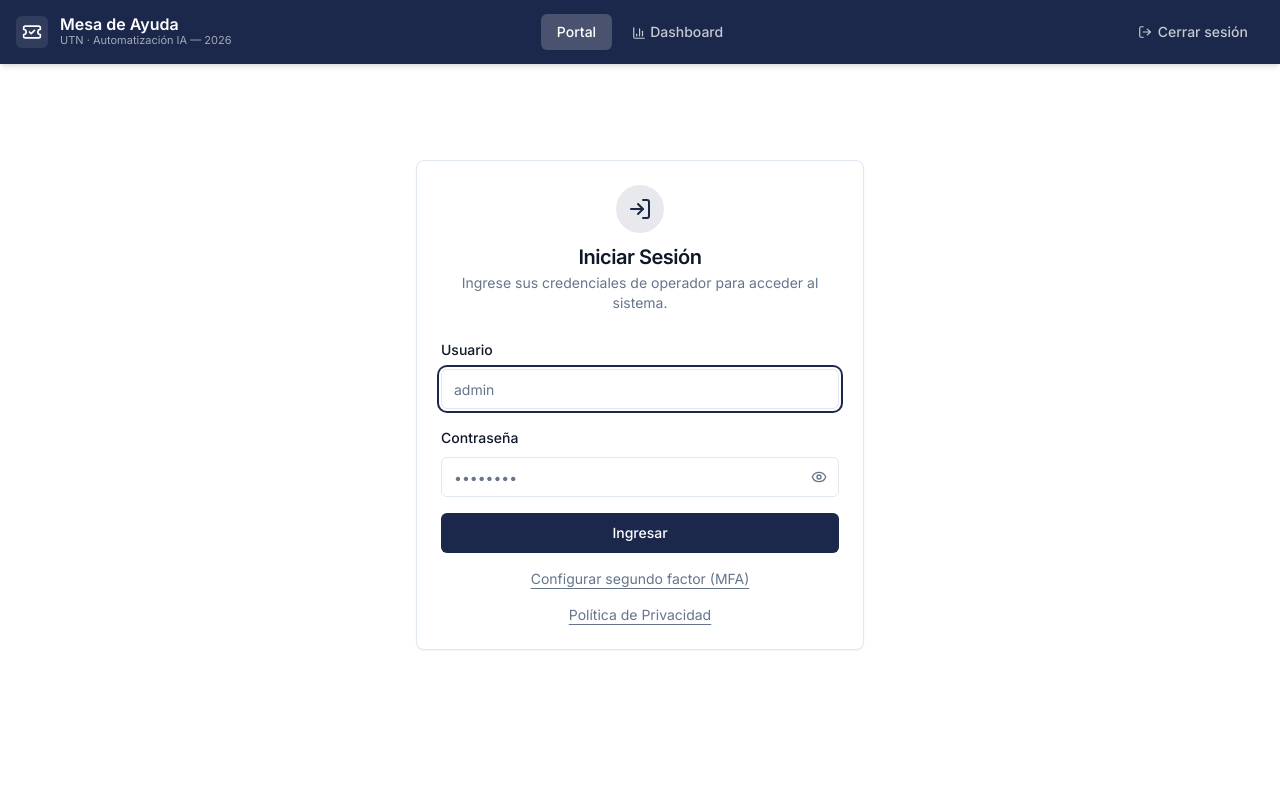
Test case: LoginPage (visibilidad de contraseña, FSU-002) › al accionar el control la contraseña pasa a texto y el aria-label cambia
This screenshot has width=1280, height=800.
What coordinates should you click on to do the following:
click the button named "Mostrar contraseña"
I would click on:
 (819, 477)
Its box is 799,457 -> 839,497.
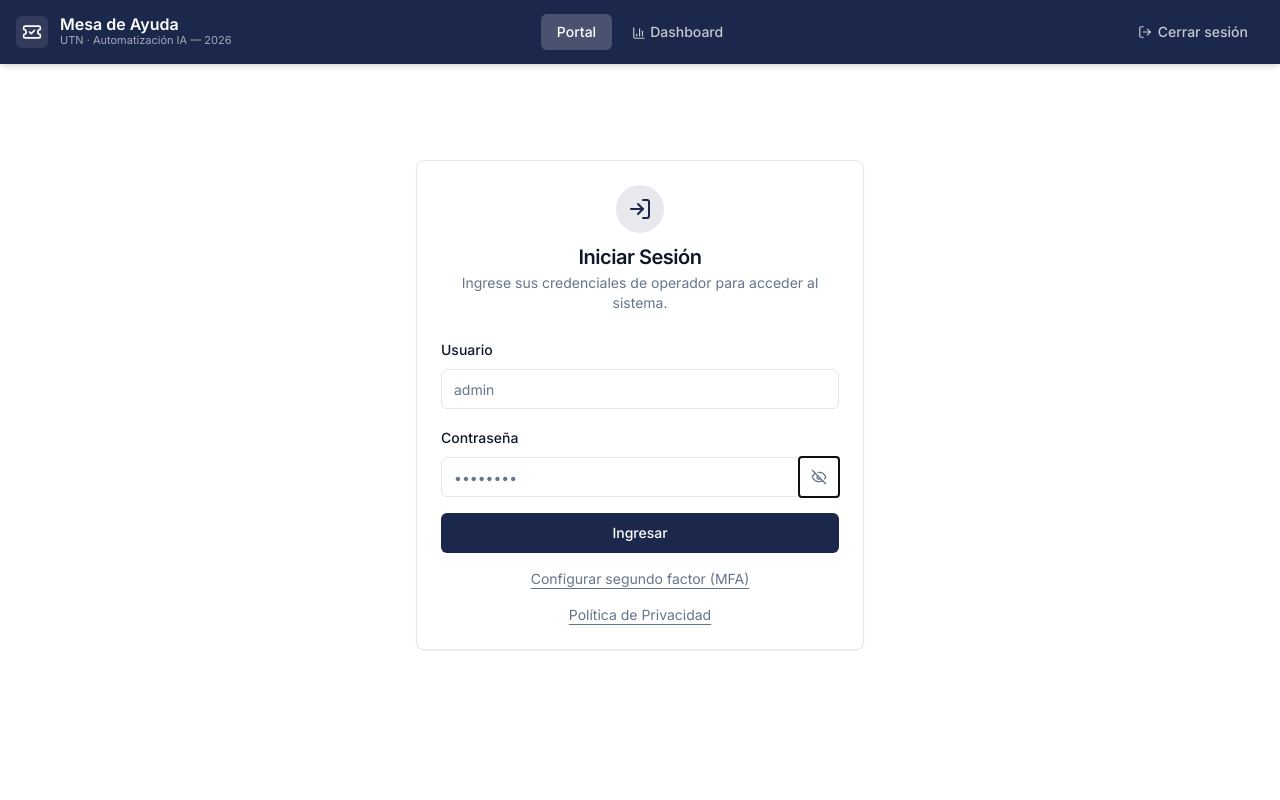
Expected: the button named "Ocultar contraseña" is shown, 799,457 -> 839,497
